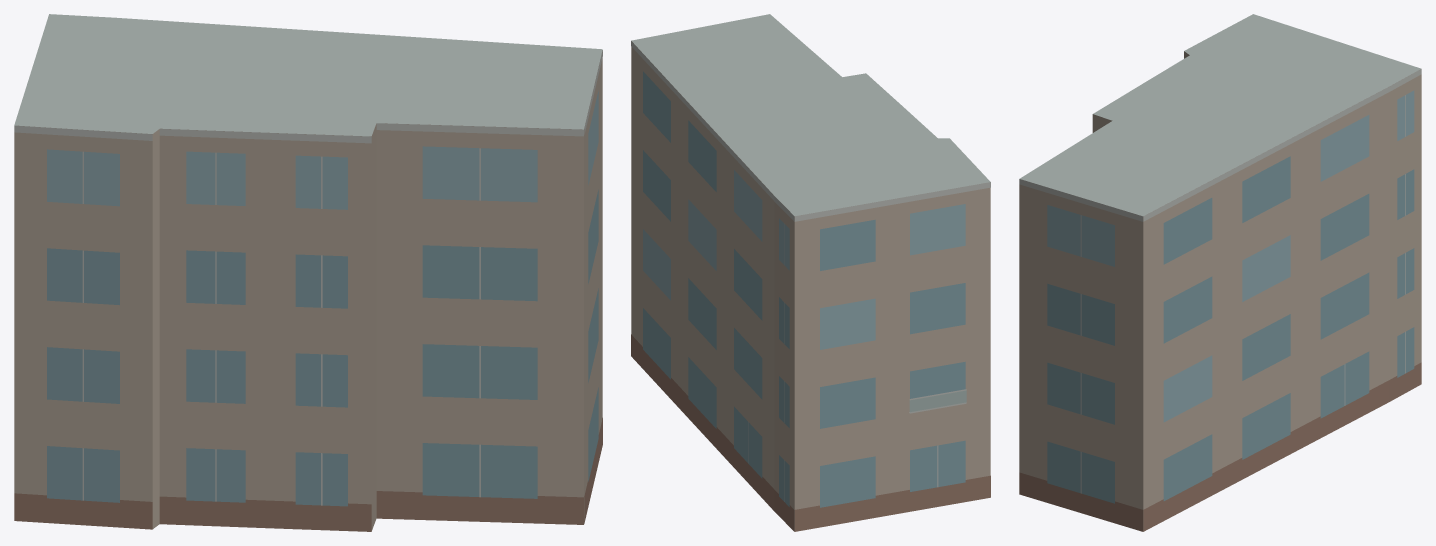
Rendered from survey-upis-32610121.glb.
3 views of the same model, side by side, from view 1: azimuth 30°, elevation 25°; view 2: azimuth 150°, elevation 25°; view 3: azimuth 270°, elevation 25° (orthographic). The views are drawn at different scales.
Parts seen in each view (by area): view 1: survey-upis-32610121.tmp; view 2: survey-upis-32610121.tmp; view 3: survey-upis-32610121.tmp.
Part boxes in pixels (bbox=[...]): survey-upis-32610121.tmp: bbox=[14, 14, 602, 531]; survey-upis-32610121.tmp: bbox=[631, 14, 990, 531]; survey-upis-32610121.tmp: bbox=[1019, 14, 1421, 531].
Size of the model in its own units: 19.13 by 13.9 by 16.07.
